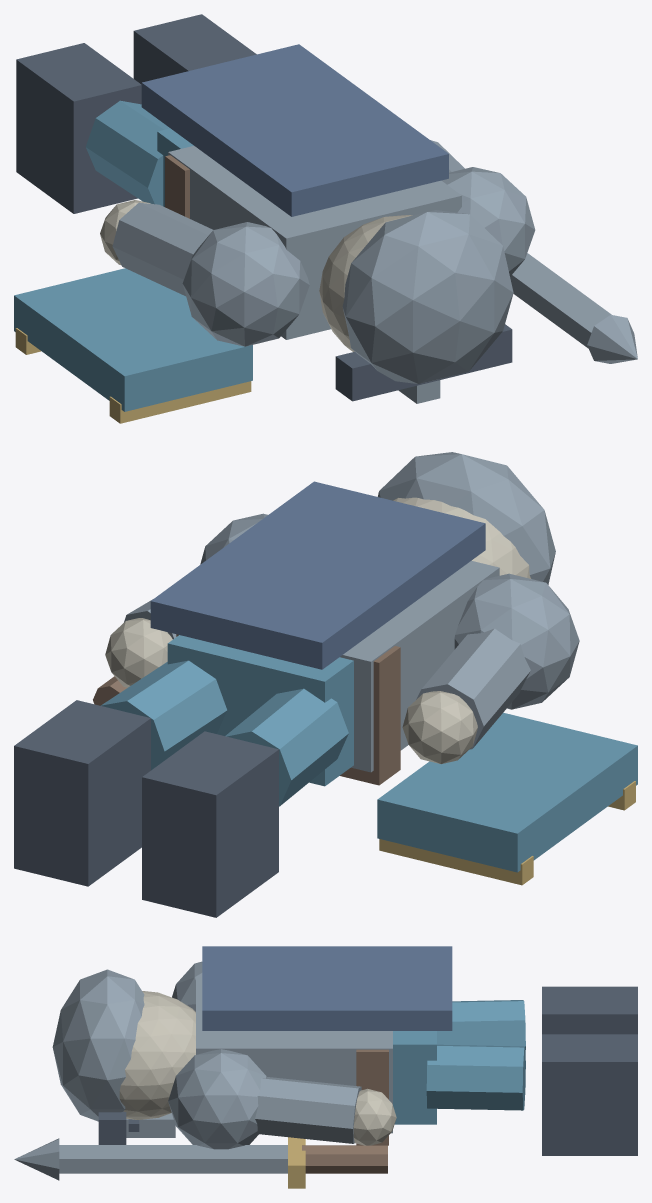
Rendered from 01_time_knight_hero.glb.
3 views of the same model, one above another, from view 1: azimuth 30°, elevation 25°; view 2: azimuth 150°, elevation 25°; view 3: azimuth 270°, elevation 25° (orthographic). The views are drawn at different scales.
Parts seen in each view (by area): view 1: cape, helmet, shield_body, boot-1, torso, shoulder-1, upper_leg-1, arm-1, boot1, shoulder1, sword_blade, helmet_rim (+7 smaller); view 2: cape, shield_body, boot-1, boot1, torso, helmet, hips, shoulder-1, upper_leg-1, upper_leg1, arm-1, hand-1 (+5 smaller); view 3: cape, boot1, helmet, torso, shoulder1, head, sword_blade, upper_leg1, arm1, boot-1, hips, upper_leg-1 (+8 smaller).
Part boxes in pixels (x1,y1,x2,y2): cape: (141,44,448,216); helmet: (342,210,513,383); shield_body: (14,268,252,411); boot-1: (16,43,141,213); torso: (168,146,461,339); shoulder-1: (182,222,309,346); upper_leg-1: (86,100,169,205); arm-1: (112,202,212,296); boot1: (133,14,256,84); shoulder1: (441,167,535,276); sword_blade: (510,253,611,348); helmet_rim: (335,324,512,401); cape: (150,481,485,669); shield_body: (377,712,637,872); boot-1: (142,731,278,917); boot1: (14,700,150,886); torso: (340,560,499,772); helmet: (377,452,555,584); hips: (167,635,353,786); shoulder-1: (454,573,579,709); upper_leg-1: (225,688,348,806); upper_leg1: (101,660,227,770); arm-1: (416,628,530,749); hand-1: (402,691,477,763); cape: (202,946,452,1030); boot1: (542,1034,637,1155); helmet: (52,969,144,1121); torso: (196,977,392,1133); shoulder1: (168,1049,266,1149); head: (119,991,195,1119); sword_blade: (59,1145,287,1173); upper_leg1: (426,1044,525,1110); arm1: (255,1077,361,1143); boot-1: (542,986,637,1034); hips: (393,1031,436,1124); upper_leg-1: (437,1000,525,1049).
Size of the model in its own units: 1.64 by 0.885 by 2.47.
